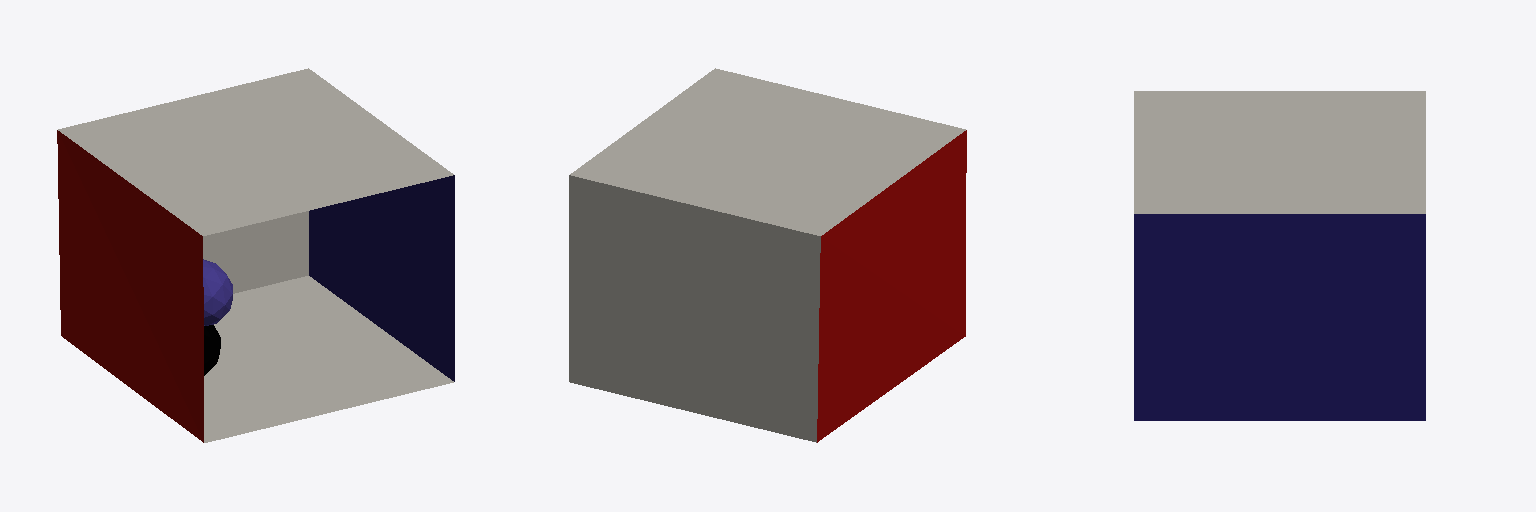
Rendered from CornellBox-Sphere-180.obj.
3 renders of one model, left to right at view 1: azimuth 30°, elevation 25°; view 2: azimuth 150°, elevation 25°; view 3: azimuth 270°, elevation 25°, orthographic.
Parts seen in each view (by area): view 1: ceiling, leftWall, floor, rightWall, backWall, leftSphere, rightSphere; view 2: backWall, ceiling, leftWall; view 3: rightWall, ceiling.
Part boxes in pixels (bbox=[...]): ceiling: bbox=[58, 68, 453, 235]; leftWall: bbox=[57, 130, 203, 442]; floor: bbox=[204, 276, 453, 442]; rightWall: bbox=[309, 175, 454, 381]; backWall: bbox=[203, 211, 308, 293]; leftSphere: bbox=[203, 259, 232, 325]; rightSphere: bbox=[204, 325, 220, 375]; backWall: bbox=[569, 175, 820, 442]; ceiling: bbox=[570, 68, 965, 235]; leftWall: bbox=[817, 130, 966, 442]; rightWall: bbox=[1134, 214, 1425, 420]; ceiling: bbox=[1134, 91, 1425, 213].
Bounding box in the file's own units: 2.02 × 1.59 × 2.03.